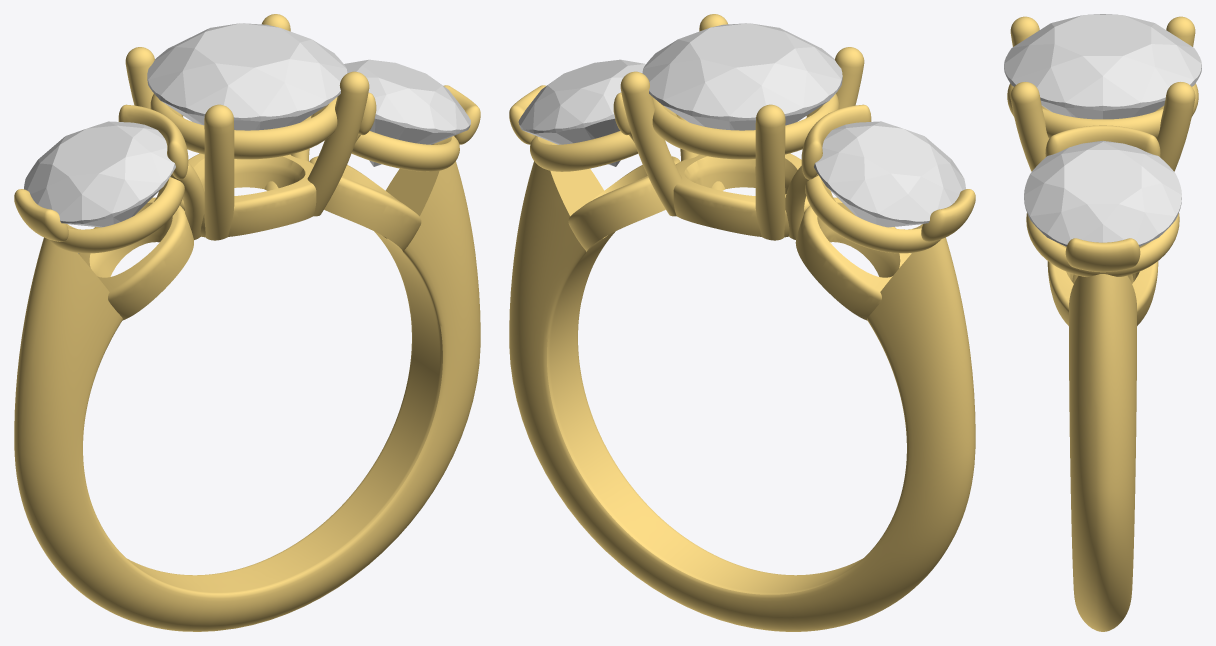
Rendered from NateByg3stone.glb.
3 renders of one model, left to right at view 1: azimuth 30°, elevation 25°; view 2: azimuth 150°, elevation 25°; view 3: azimuth 270°, elevation 25°, orthographic.
Visible parts, largest first — view 1: Nate YG for 3d model, Nate dia for 3d model.002, Nate dia for 3d model.001, Nate dia for 3d model; view 2: Nate YG for 3d model, Nate dia for 3d model.002, Nate dia for 3d model.001, Nate dia for 3d model; view 3: Nate YG for 3d model, Nate dia for 3d model.002, Nate dia for 3d model.
Boxes of the visible parts, x1,y1,x2,y2 form: Nate YG for 3d model: (14,14,480,631); Nate dia for 3d model.002: (147,23,347,130); Nate dia for 3d model.001: (24,121,175,227); Nate dia for 3d model: (344,59,470,166); Nate YG for 3d model: (509,14,975,631); Nate dia for 3d model.002: (642,23,842,130); Nate dia for 3d model.001: (814,121,965,227); Nate dia for 3d model: (518,59,645,166); Nate YG for 3d model: (1007,16,1198,631); Nate dia for 3d model.002: (1004,14,1201,119); Nate dia for 3d model: (1024,141,1181,246).
Bounding box in the file's own units: 21.52 × 25.81 × 8.1.
